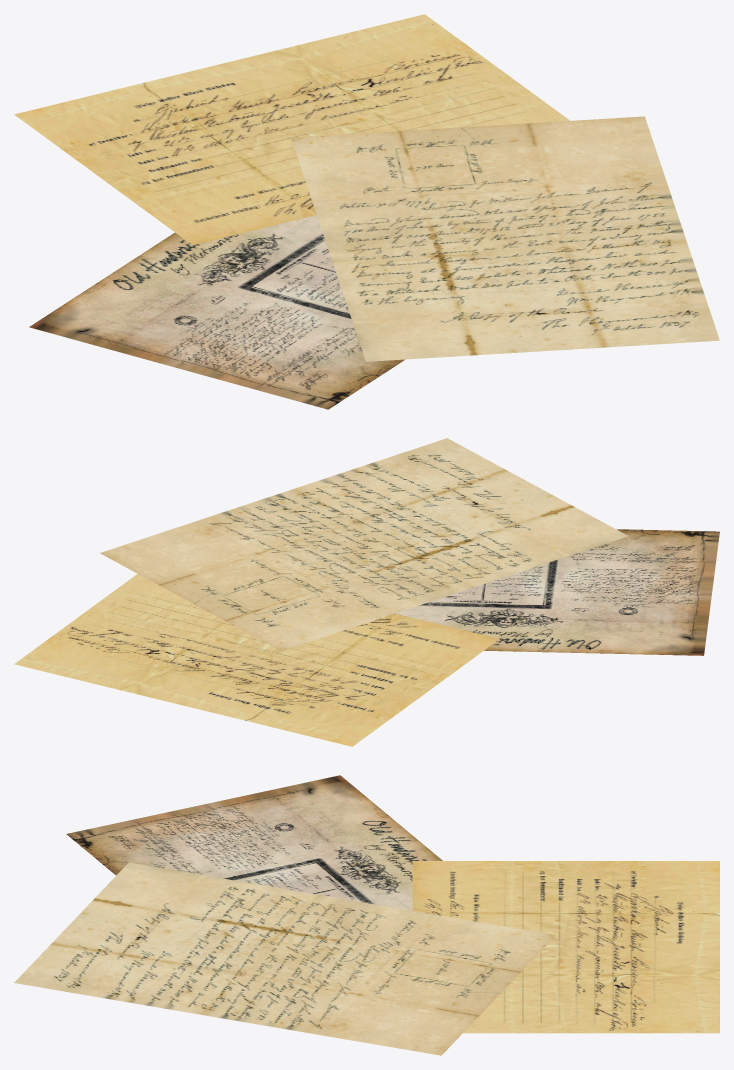
The model's file is Papers 2.fbx.
3 views of the same model, one above another, from view 1: azimuth 30°, elevation 25°; view 2: azimuth 150°, elevation 25°; view 3: azimuth 270°, elevation 25° (orthographic). The views are drawn at different scales.
Visible parts, largest first — view 1: Plane.012; view 2: Plane.012; view 3: Plane.012.
Part boxes in pixels (x1,y1,x2,y2): Plane.012: (14, 14, 719, 409); Plane.012: (14, 438, 719, 746); Plane.012: (14, 775, 719, 1055).
Bounding box in the file's own units: 436 × 1.9 × 459.
